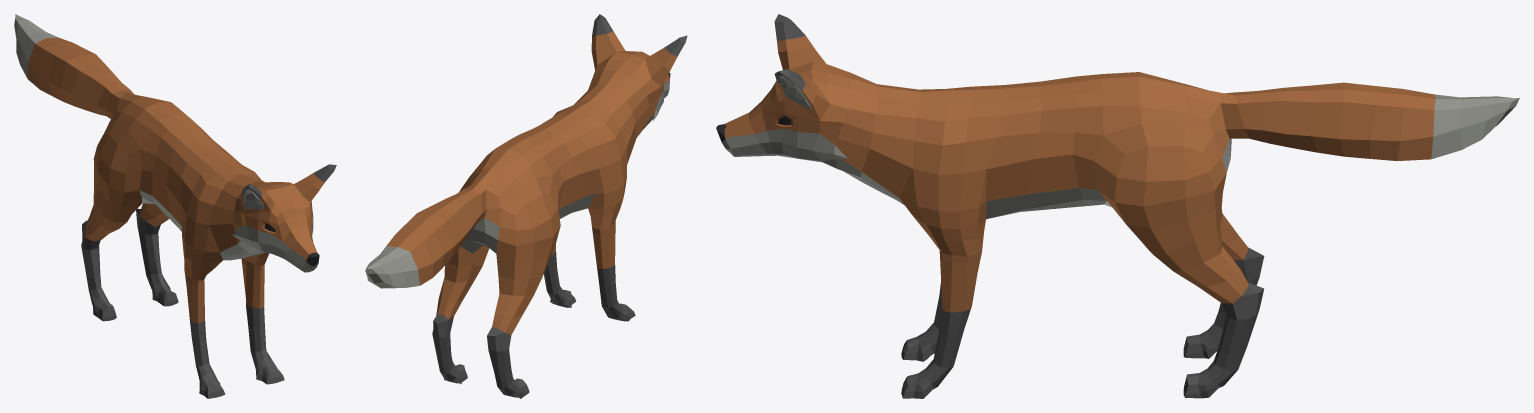
The model's file is fox.glb.
3 views of the same model, side by side, from view 1: azimuth 30°, elevation 25°; view 2: azimuth 150°, elevation 25°; view 3: azimuth 270°, elevation 25° (orthographic). The views are drawn at different scales.
Parts seen in each view (by area): view 1: Fox; view 2: Fox; view 3: Fox.
Part boxes in pixels (<box>): Fox: <box>14,14,336,398</box>; Fox: <box>365,14,687,398</box>; Fox: <box>716,14,1519,398</box>.
Size of the model in its own units: 0.3609 by 0.91 by 2.
